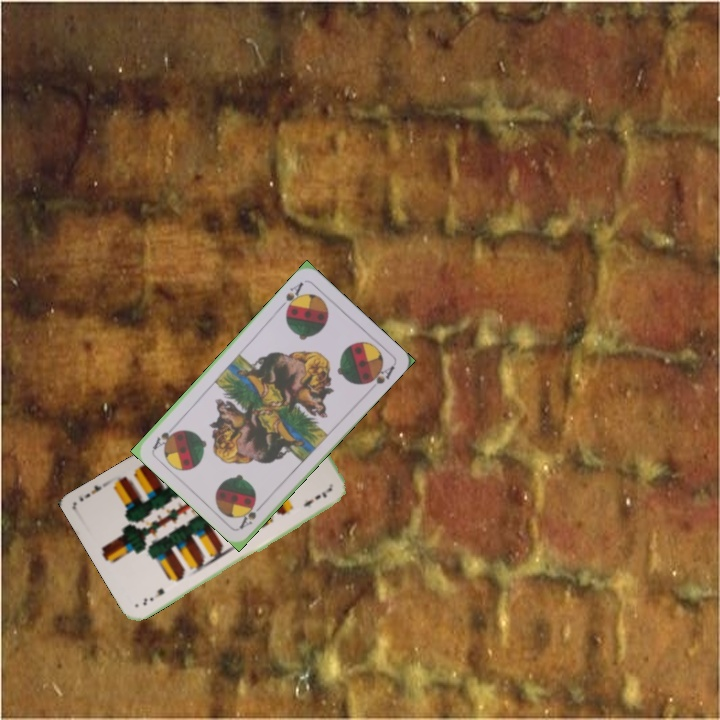E7: (139, 584, 167, 608)
SA: (276, 278, 306, 315), (235, 499, 267, 531)
